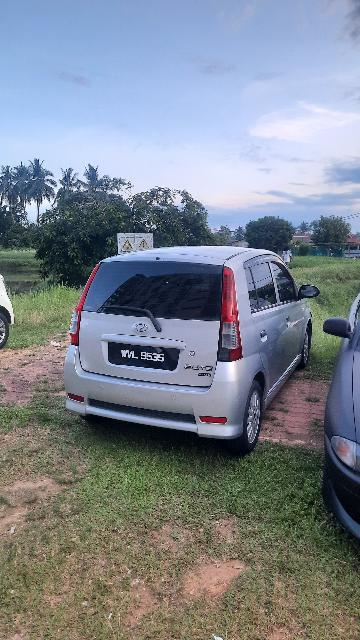License_Plate: (108, 343, 185, 374)
car: (64, 246, 324, 456)
